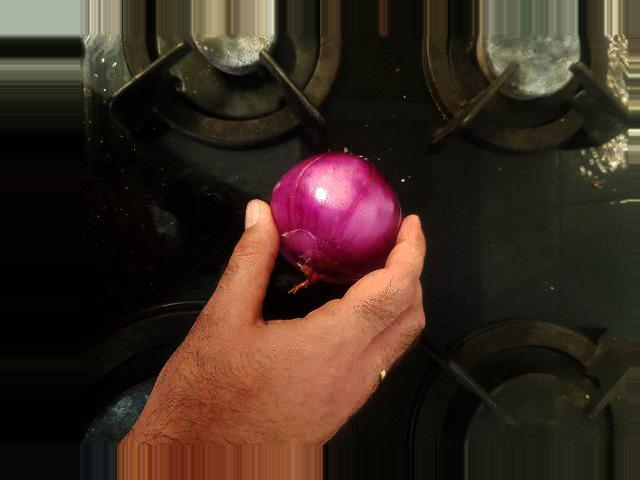onion: (273, 162, 398, 272)
